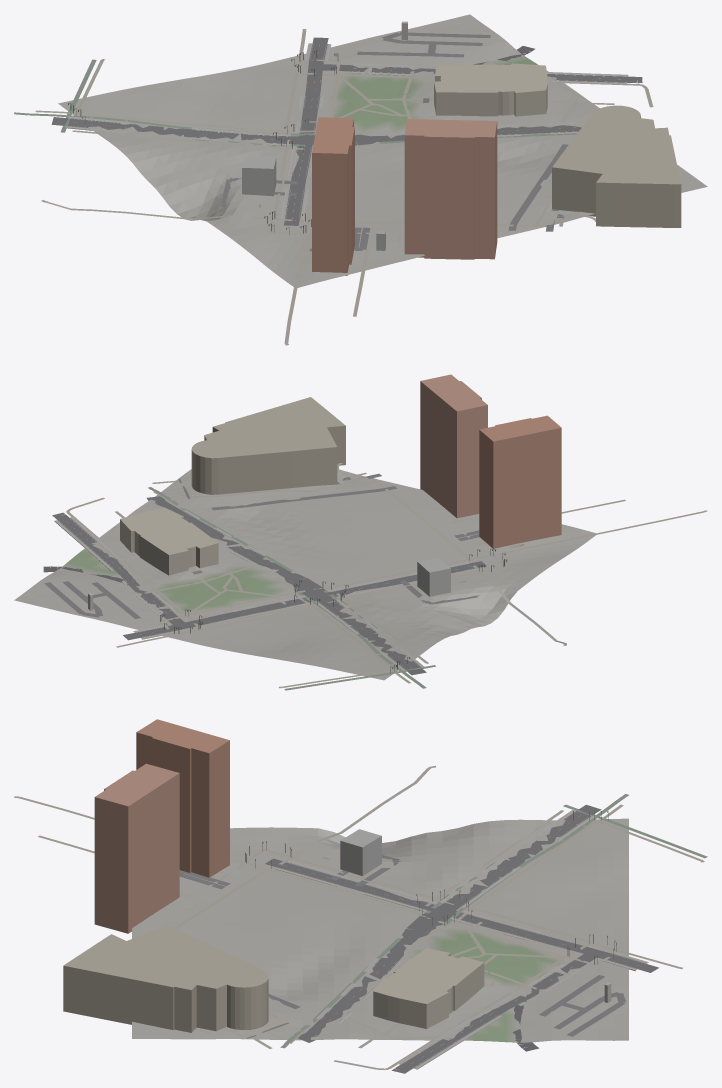
File: tile_-4_3.glb
3 renders of one model, top to bottom at view 1: azimuth 30°, elevation 25°; view 2: azimuth 150°, elevation 25°; view 3: azimuth 270°, elevation 25°, orthographic. The views are drawn at different scales.
Visible parts, largest first — view 1: terrain, buildings, roads, paths, sidewalks; view 2: terrain, buildings, roads, paths, sidewalks; view 3: terrain, buildings, roads, paths, sidewalks.
Part boxes in pixels (bbox=[...]): terrain: bbox=[58, 14, 707, 287]; buildings: bbox=[242, 21, 681, 275]; roads: bbox=[51, 32, 642, 251]; paths: bbox=[14, 29, 653, 345]; sidewalks: bbox=[66, 43, 628, 219]; terrain: bbox=[14, 469, 595, 680]; buildings: bbox=[88, 374, 561, 610]; roads: bbox=[43, 473, 523, 675]; paths: bbox=[66, 463, 707, 690]; sidewalks: bbox=[54, 510, 476, 670]; terrain: bbox=[132, 818, 628, 1042]; buildings: bbox=[63, 719, 611, 1032]; roads: bbox=[179, 804, 658, 1073]; paths: bbox=[14, 765, 707, 1069]; sidewalks: bbox=[275, 809, 648, 1069].
Size of the model in its own units: 365 by 78.84 by 357.
